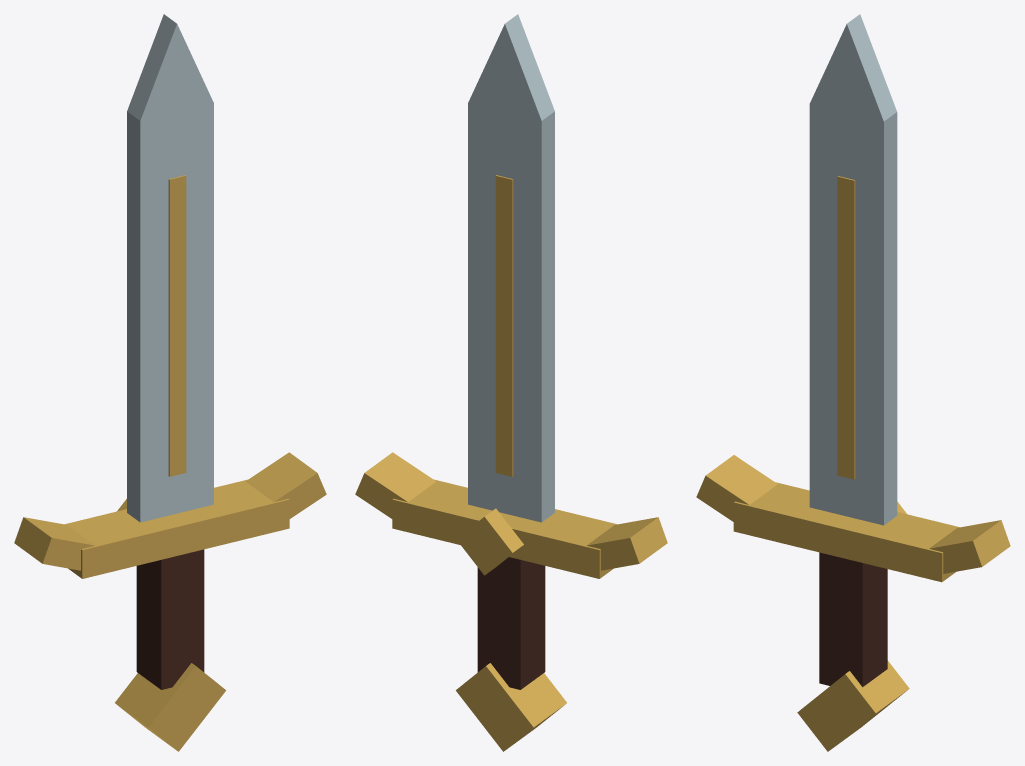
The model's file is iron_sword.glb.
3 views of the same model, side by side, from view 1: azimuth 30°, elevation 25°; view 2: azimuth 150°, elevation 25°; view 3: azimuth 330°, elevation 25° (orthographic).
Parts seen in each view (by area): view 1: iron_sword; view 2: iron_sword; view 3: iron_sword.
Part boxes in pixels (x1,y1,x2,y2): iron_sword: (14,14,326,751); iron_sword: (355,14,667,751); iron_sword: (696,14,1010,751).
Size of the model in its own units: 1.85 by 4.47 by 0.495.
